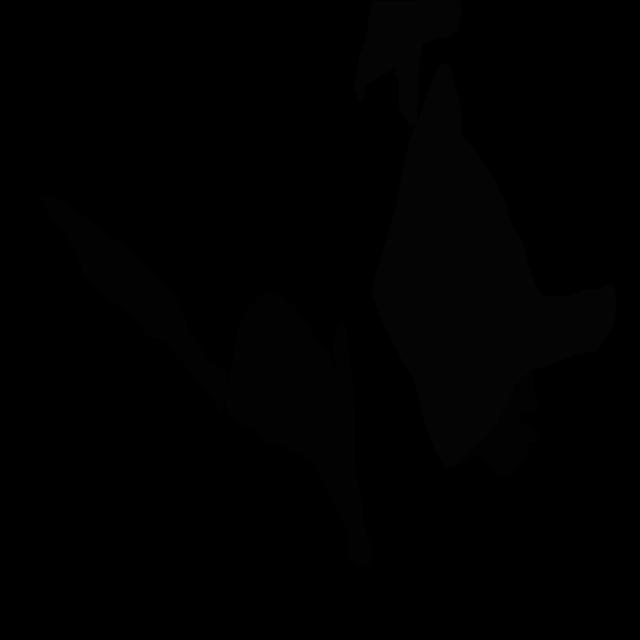cardboard: (38, 196, 228, 413), (224, 293, 372, 567), (459, 372, 539, 477)
soft_plastic: (371, 63, 616, 468), (354, 0, 462, 127)
